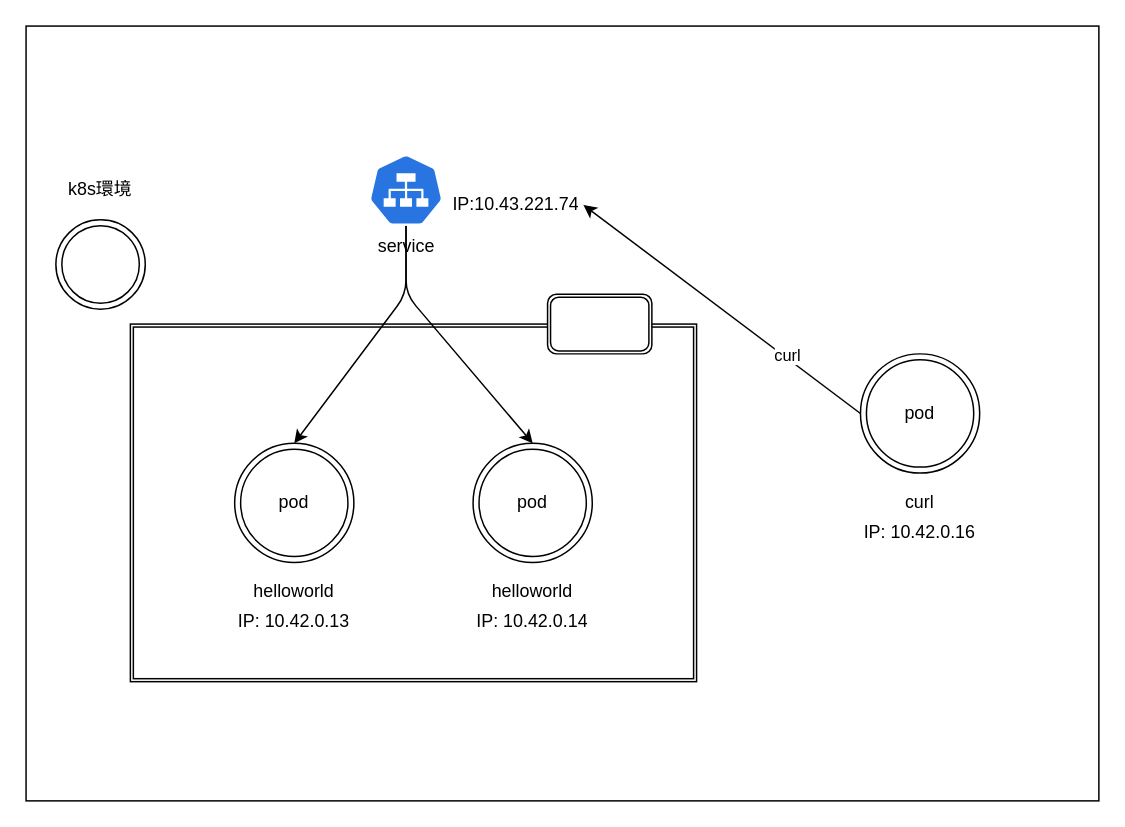
Some shapes in this 1125 by 827 pixel diagram are drawn without their labels. The shapes that lost their labels are listed below. From the top down, each one's centre as x and y in pixels, then its label:
At (99,263): "master".
At (599,323): "port 8080".
